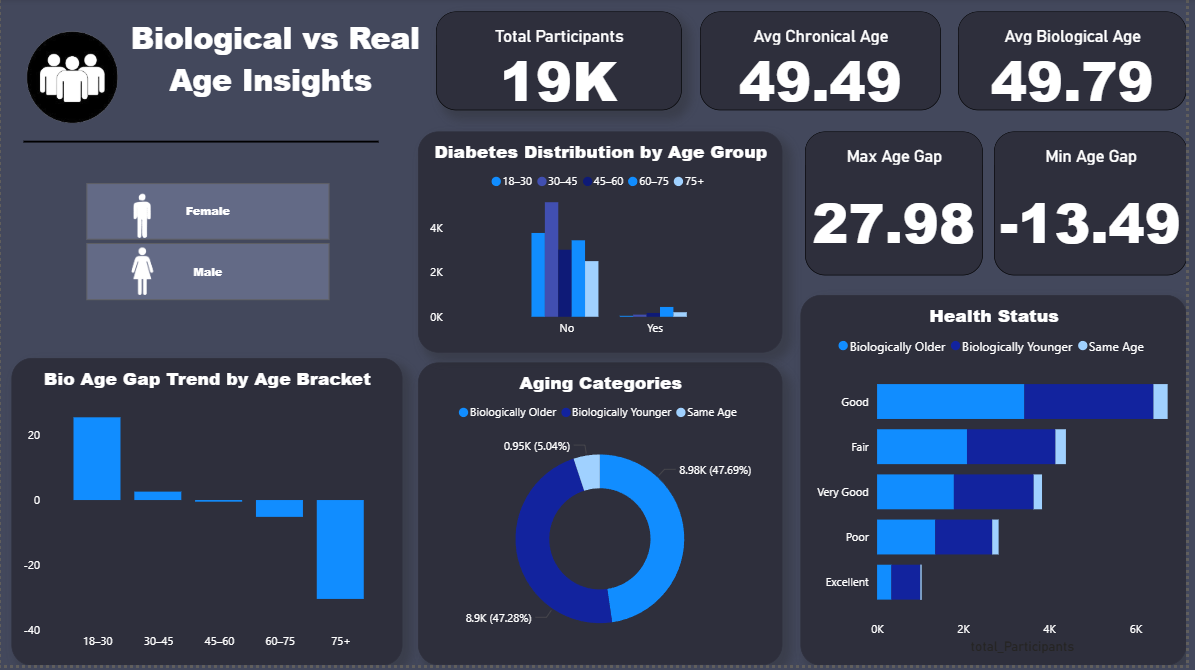

This screenshot's page, from the dashboard's own definition file:
{"tool":"powerbi","page":{"name":"Page 1","canvas":[1280,720],"ordinal":0},"visuals":[{"type":"card","title":"Total Participants","fields":{"Values":["cleaned_kdm_bioage_NHANES32.total_Participants"]},"box":[470,15,265,106.7],"z":0},{"type":"card","title":"Avg Chronical Age","fields":{"Values":["all measures.avg_age"]},"box":[755,15,260,106.7],"z":1000},{"type":"card","title":"Avg Biological Age","fields":{"Values":["all measures.avg_bioage"]},"box":[1033.3,15,246.7,106.7],"z":2000},{"type":"textbox","box":[111.7,15,358.3,120],"z":3000},{"type":"shape","box":[25,141.7,383.3,28.3],"z":4000},{"type":"donutChart","title":"Aging Categories","fields":{"Category":["cleaned_kdm_bioage_NHANES32.AgeComparison"],"Y":["cleaned_kdm_bioage_NHANES32.AgeComparison"]},"box":[450,393.3,393.3,326.7],"z":5000},{"type":"barChart","title":"Health Status","fields":{"Category":["cleaned_kdm_bioage_NHANES32.health"],"Series":["cleaned_kdm_bioage_NHANES32.AgeComparison"],"Y":["cleaned_kdm_bioage_NHANES32.total_Participants"]},"box":[863.3,320,416.7,400],"z":6000},{"type":"clusteredColumnChart","title":"Bio Age Gap Trend by Age Bracket","fields":{"Category":["cleaned_kdm_bioage_NHANES32.Age Group"],"Y":["all measures.newavgage"]},"box":[11.7,388.3,421.7,331.7],"z":7000},{"type":"slicer","fields":{"Values":["cleaned_kdm_bioage_NHANES32.gender"]},"box":[66.7,193.3,311.7,140],"z":8000},{"type":"card","title":"Max Age Gap","fields":{"Values":["all measures.max_gap"]},"box":[868.3,143.3,191.7,155],"z":9000},{"type":"clusteredColumnChart","title":"Diabetes Distribution by Age Group","fields":{"Category":["cleaned_kdm_bioage_NHANES32.diabetes"],"Y":["cleaned_kdm_bioage_NHANES32.total_Participants"],"Series":["cleaned_kdm_bioage_NHANES32.Age Group"]},"box":[450,143.3,393.3,238.3],"z":10000},{"type":"card","title":"Min Age Gap","fields":{"Values":["all measures.min_gap"]},"box":[1071.7,143.3,208.3,155],"z":11000},{"type":"image","box":[123.3,205,58.3,58.3],"z":12000},{"type":"image","box":[118.3,271.7,68.3,61.7],"z":13000},{"type":"shape","box":[36.7,45,80,83.3],"z":14000},{"type":"image","box":[1.7,0,150,181.7],"z":15000}]}

Visuals, with their boxes in screenshot pixels (x1, y1, x2, y2), scaled from the page's 1280x720 canvas onto the 1195x670 screenshot:
"Total Participants" card: detection(439, 14, 686, 113)
"Avg Chronical Age" card: detection(705, 14, 948, 113)
"Avg Biological Age" card: detection(965, 14, 1194, 113)
textbox: detection(104, 14, 439, 126)
shape: detection(23, 132, 381, 158)
"Aging Categories" donutChart: detection(420, 366, 787, 669)
"Health Status" barChart: detection(806, 298, 1194, 669)
"Bio Age Gap Trend by Age Bracket" clusteredColumnChart: detection(11, 361, 405, 669)
slicer - cleaned_kdm_bioage_NHANES32.gender: detection(62, 180, 353, 310)
"Max Age Gap" card: detection(811, 133, 990, 278)
"Diabetes Distribution by Age Group" clusteredColumnChart: detection(420, 133, 787, 355)
"Min Age Gap" card: detection(1001, 133, 1194, 278)
image: detection(115, 191, 170, 245)
image: detection(110, 253, 174, 310)
shape: detection(34, 42, 109, 119)
image: detection(2, 0, 142, 169)
